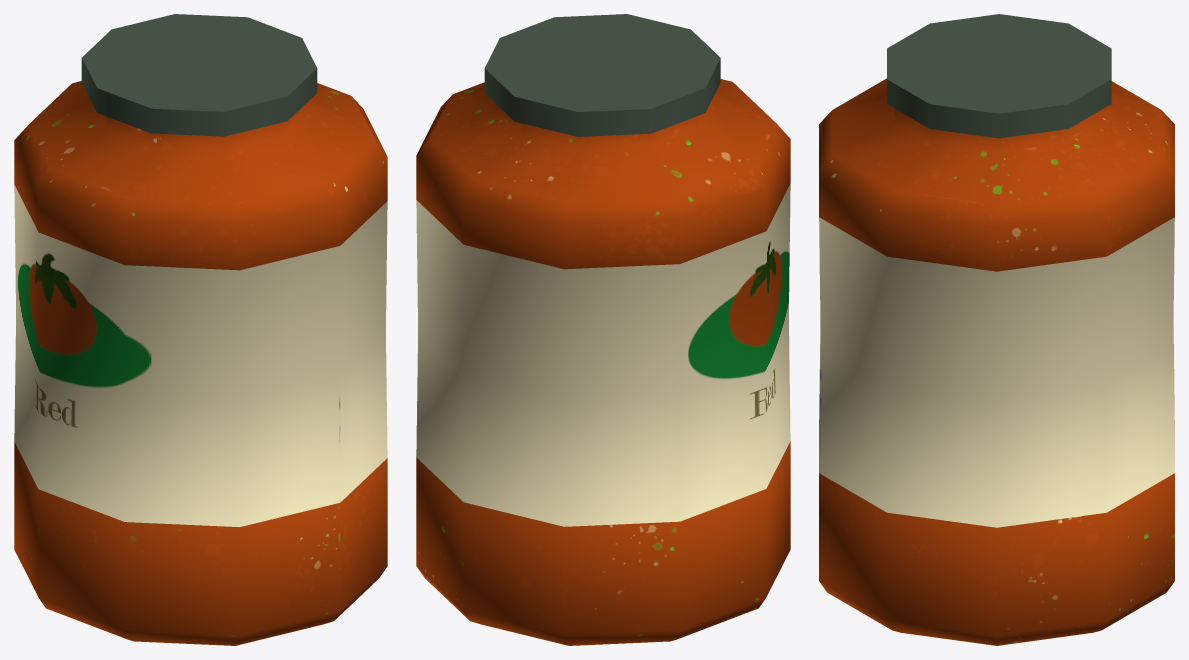
The model's file is Marinara_Jar01.fbx.
3 views of the same model, side by side, from view 1: azimuth 30°, elevation 25°; view 2: azimuth 150°, elevation 25°; view 3: azimuth 270°, elevation 25° (orthographic).
Visible parts, largest first — view 1: Marinara001; view 2: Marinara001; view 3: Marinara001.
Boxes of the visible parts, x1,y1,x2,y2 form: Marinara001: (14, 14, 387, 645); Marinara001: (416, 14, 790, 645); Marinara001: (819, 14, 1174, 645).
Bounding box in the file's own units: 4.16 × 6.29 × 3.95.
